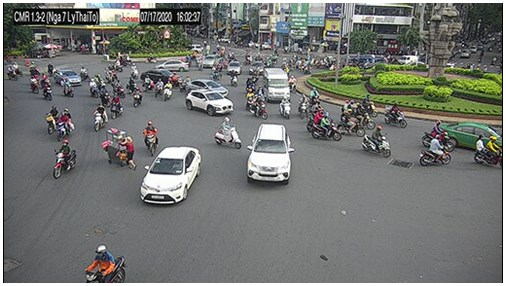xe_hoi: (140, 146, 199, 205), (246, 123, 290, 187), (441, 122, 501, 154), (185, 90, 235, 116), (186, 78, 229, 97), (144, 69, 181, 84), (55, 69, 82, 87), (156, 60, 190, 71), (203, 55, 223, 68), (228, 60, 242, 76), (248, 62, 265, 74)
xe_khach: (263, 67, 289, 101)
xe_may: (84, 244, 126, 282), (423, 120, 453, 153), (474, 133, 501, 168), (214, 117, 241, 151), (363, 126, 392, 157), (421, 135, 450, 166), (53, 139, 75, 178), (311, 115, 342, 142), (338, 109, 365, 138), (306, 110, 336, 133), (55, 109, 73, 141), (144, 120, 158, 156), (384, 104, 407, 125), (92, 102, 108, 132), (250, 96, 267, 120), (362, 94, 377, 119), (111, 93, 123, 119), (46, 106, 57, 134), (279, 97, 290, 119), (246, 87, 255, 113), (142, 74, 154, 93), (344, 98, 359, 113), (112, 80, 126, 96), (29, 76, 40, 96), (63, 77, 73, 98), (163, 80, 173, 101), (100, 85, 110, 106), (299, 95, 307, 121), (310, 87, 319, 108), (133, 87, 142, 107), (7, 64, 18, 80), (79, 64, 90, 80), (180, 75, 191, 91), (89, 78, 98, 97), (154, 78, 163, 97), (44, 81, 52, 102), (108, 60, 123, 71), (212, 66, 222, 79), (30, 61, 39, 74), (230, 71, 237, 87), (131, 63, 138, 78), (290, 75, 296, 92), (47, 61, 53, 74), (251, 70, 256, 84)
